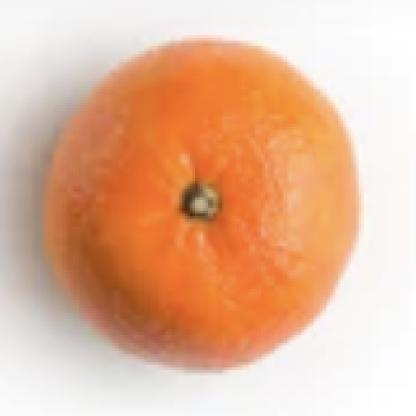fresh: (45, 33, 362, 372)
